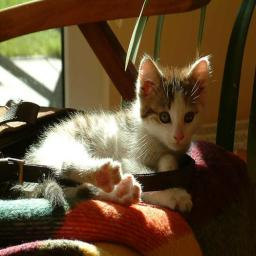catnose: (171, 130, 186, 145)
